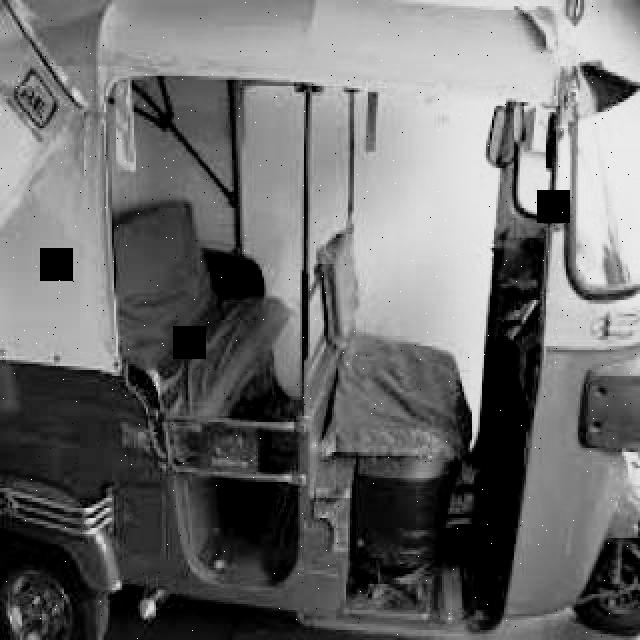Auto-Rickshaw: (16, 8, 640, 640)
